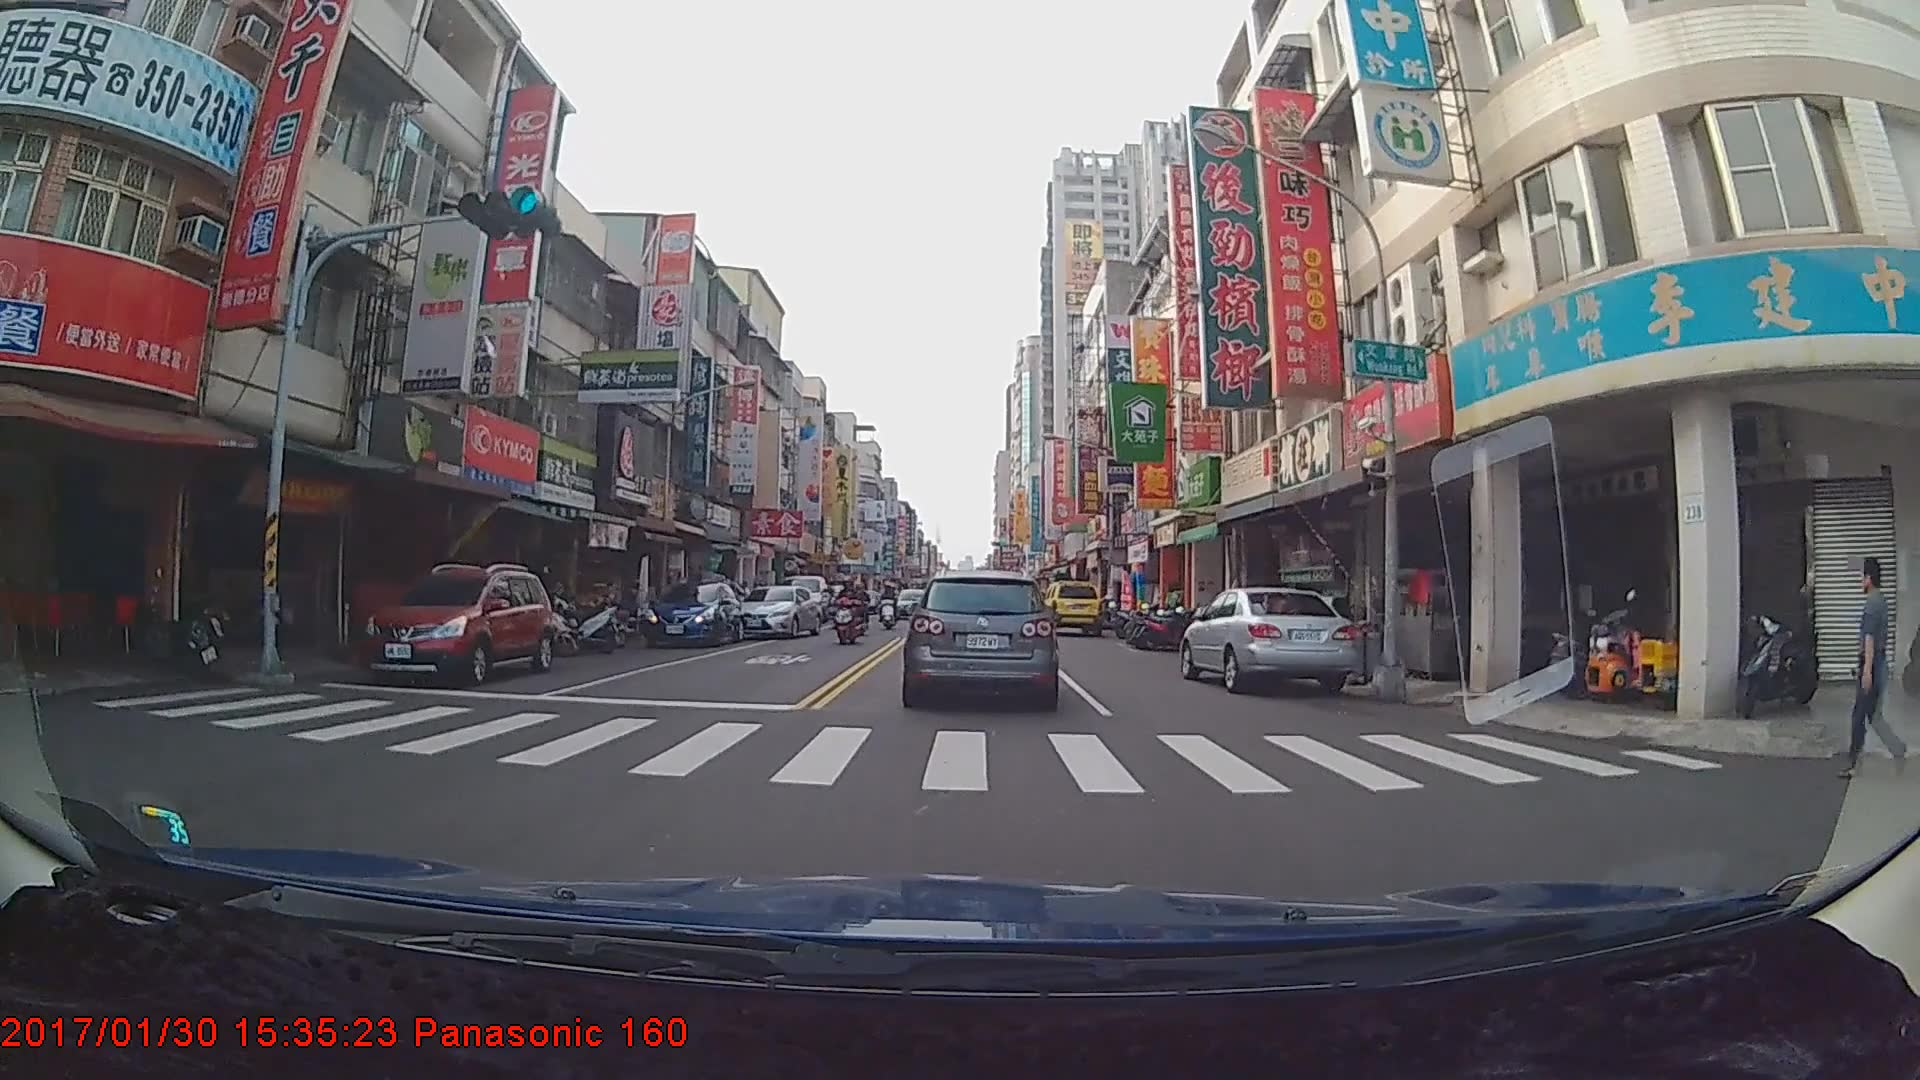pedestrian: (1838, 551, 1902, 786)
rider: (837, 573, 869, 645), (880, 580, 900, 633)
vehicle: (359, 559, 554, 686), (903, 568, 1057, 707), (1181, 588, 1358, 695), (638, 581, 745, 649), (732, 585, 822, 638), (1042, 580, 1101, 633), (777, 571, 827, 622)
